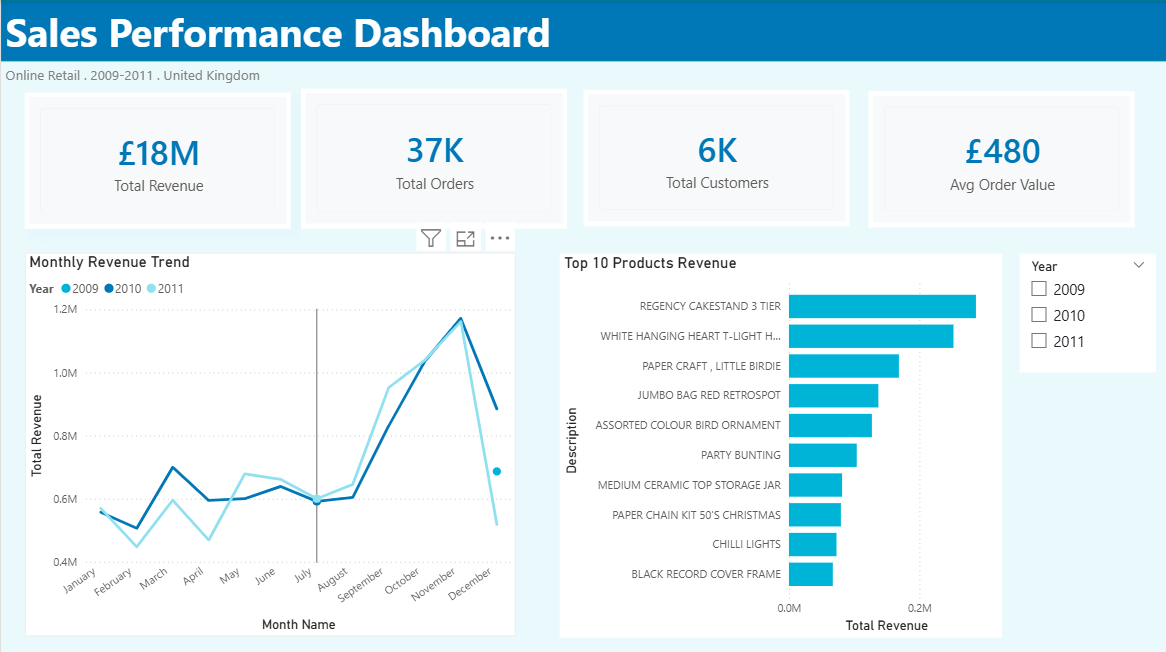

The page's visual inventory and layout, read from the dashboard file:
{"tool":"powerbi","page":{"name":"Sales Overview","canvas":[1280,720],"ordinal":0},"visuals":[{"type":"shape","box":[0,0,1280.3,67.2],"z":0},{"type":"textbox","box":[0,0,1280.3,67.2],"z":1000},{"type":"textbox","box":[0,67.2,292.3,30.2],"z":2000},{"type":"cardVisual","fields":{"Data":["_Measures.Total Revenue"]},"box":[26.3,101.8,292.3,149.6],"z":3000},{"type":"cardVisual","fields":{"Data":["_Measures.Total Orders"]},"box":[329.3,97.4,292.3,153.7],"z":4000},{"type":"cardVisual","fields":{"Data":["_Measures.Total Customers"]},"box":[639.5,98.8,292.3,149.6],"z":5000},{"type":"cardVisual","fields":{"Data":["_Measures.Avg Order Value"]},"box":[952.3,100.2,292.3,149.6],"z":6000},{"type":"lineChart","title":"Monthly Revenue Trend","fields":{"Category":["Date Table.Month Name"],"Y":["_Measures.Total Revenue"],"Series":["Date Table.Year"]},"box":[26.1,277.2,539.3,421.3],"z":7000},{"type":"clusteredBarChart","title":"Top 10 Products Revenue","fields":{"Y":["_Measures.Total Revenue"],"Category":["Online Retail.Description"]},"box":[613.4,278.6,485.8,421.3],"z":8000},{"type":"slicer","fields":{"Values":["Date Table.Year"]},"box":[1118.4,278.6,149.6,130.4],"z":9000}]}

Visuals, with their boxes in screenshot pixels (x1, y1, x2, y2), scaled from the page's 1280x720 canvas onto the 1166x652 screenshot:
shape: 0, 0, 1165, 61
textbox: 0, 0, 1165, 61
textbox: 0, 61, 266, 88
cardVisual - _Measures.Total Revenue: 24, 92, 290, 228
cardVisual - _Measures.Total Orders: 300, 88, 566, 227
cardVisual - _Measures.Total Customers: 583, 89, 849, 225
cardVisual - _Measures.Avg Order Value: 867, 91, 1134, 226
"Monthly Revenue Trend" lineChart: 24, 251, 515, 633
"Top 10 Products Revenue" clusteredBarChart: 559, 252, 1001, 634
slicer - Date Table.Year: 1019, 252, 1155, 370
